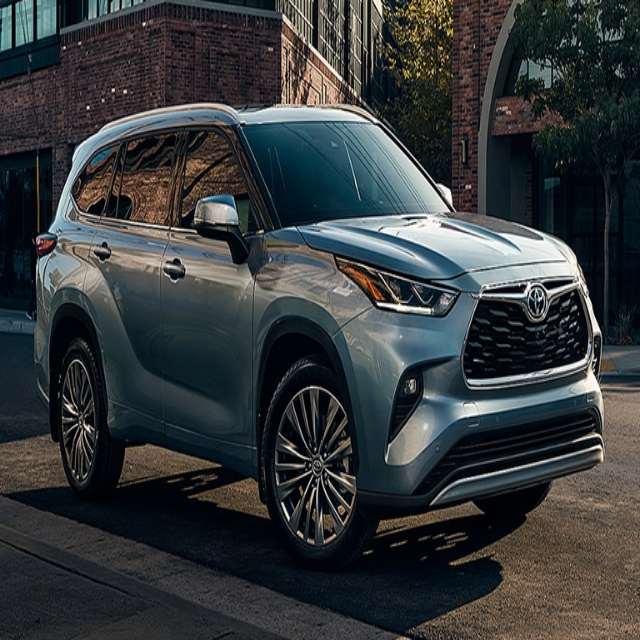Car: (33, 100, 604, 567)
